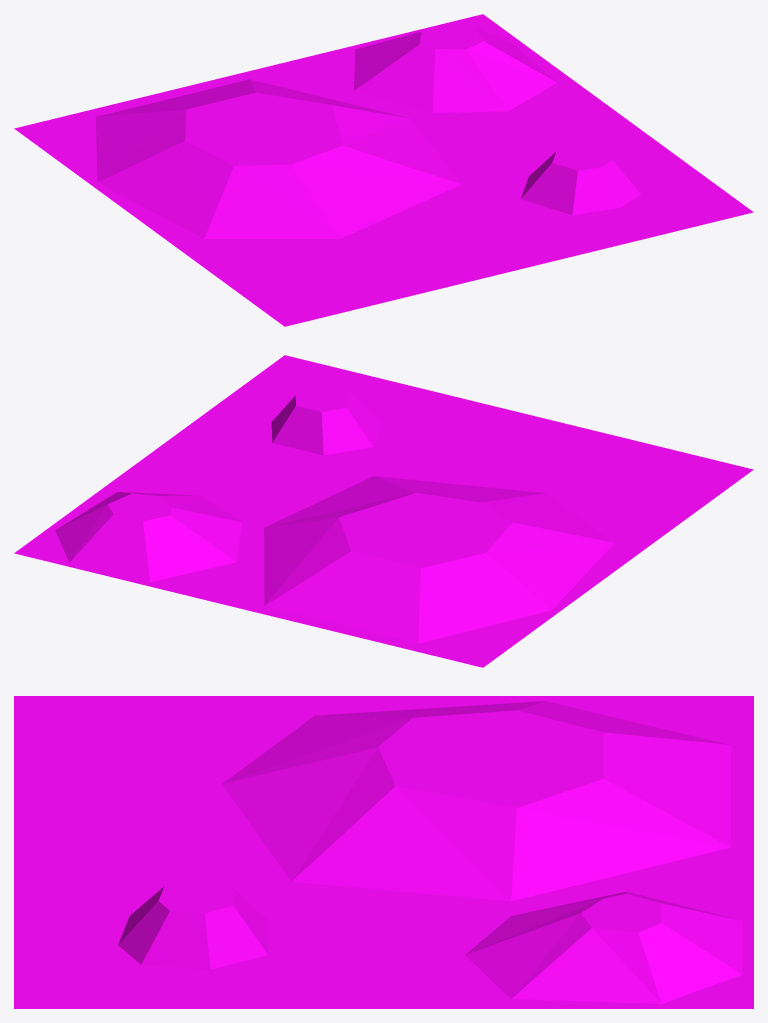
Rendered from cave swampbubbles.obj.
3 renders of one model, top to bottom at view 1: azimuth 30°, elevation 25°; view 2: azimuth 150°, elevation 25°; view 3: azimuth 270°, elevation 25°, orthographic. The views are drawn at different scales.
Visible parts, largest first — view 1: cave swampbubbles_back; view 2: cave swampbubbles_back; view 3: cave swampbubbles_back.
Part boxes in pixels (bbox=[...]): cave swampbubbles_back: bbox=[14, 14, 753, 326]; cave swampbubbles_back: bbox=[14, 355, 753, 667]; cave swampbubbles_back: bbox=[14, 696, 753, 1008].
Size of the model in its own units: 1.28 by 0.08 by 1.28.
